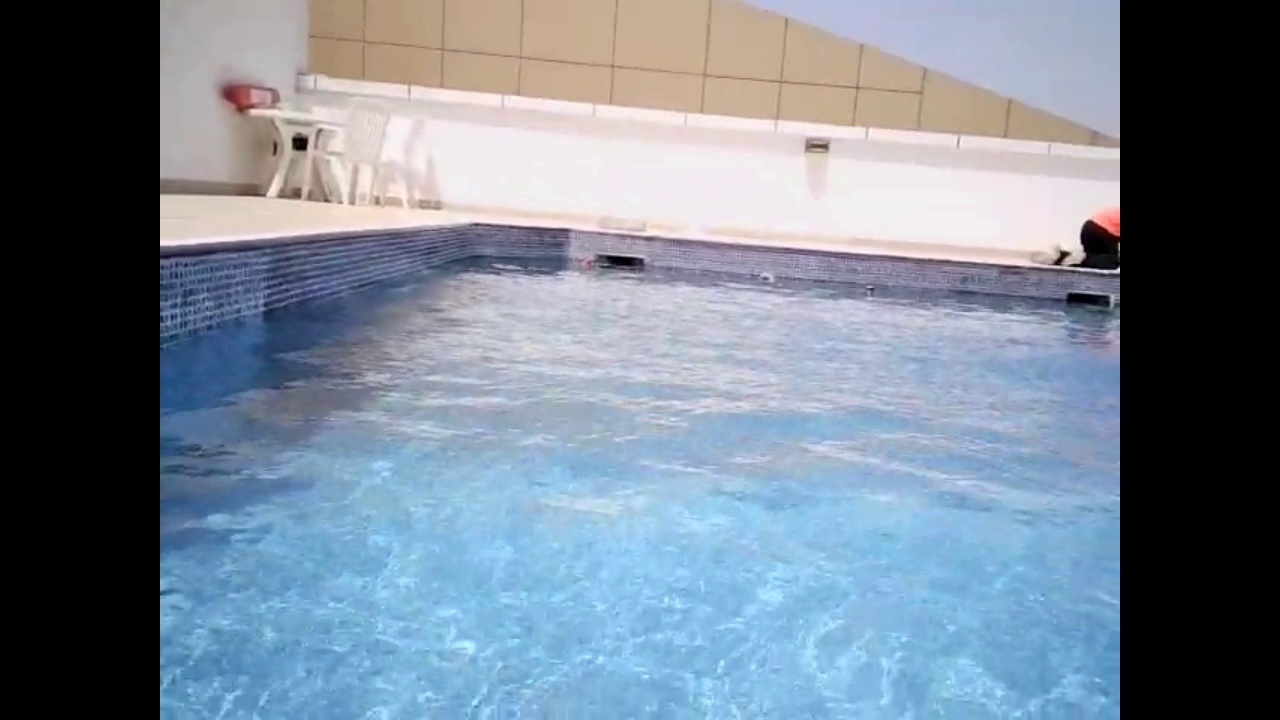debris: (747, 269, 774, 286), (575, 253, 596, 271), (859, 281, 878, 300)
